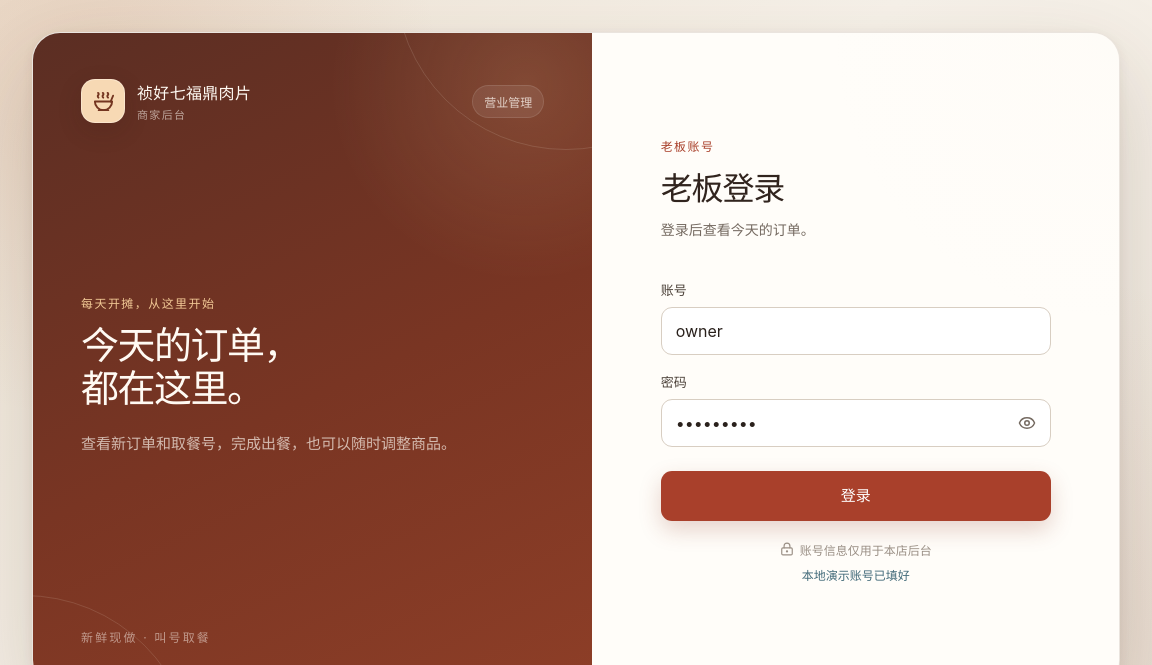
Scenario: merchant V2 app › completes a waiting order through an explicit confirmation
Click the button "登录".
click(856, 496)  # box [661, 470, 1051, 520]
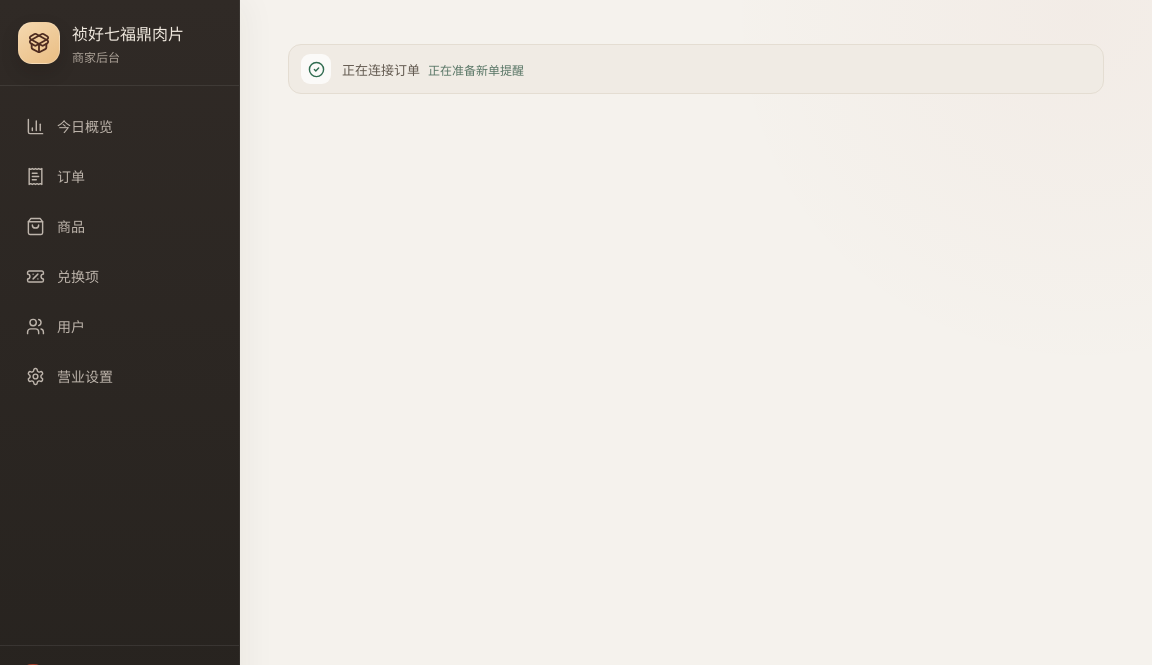
Click the link "订单".
click(56, 176)  # box [26, 166, 85, 186]
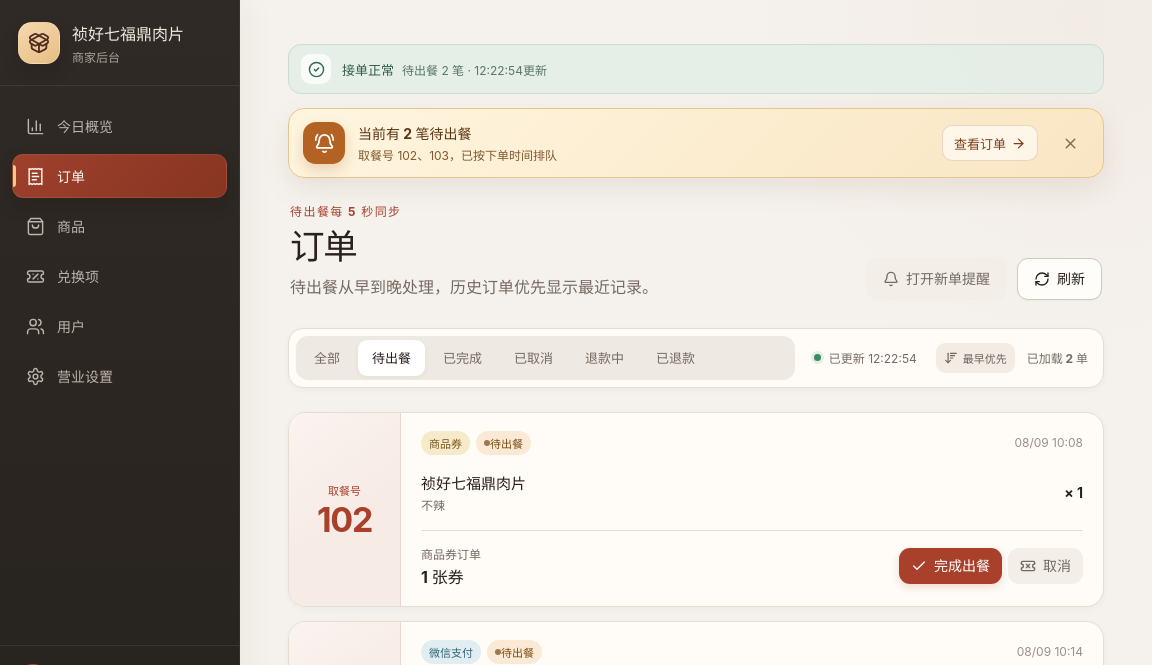
Click the button "完成出餐".
click(950, 566)  # box [899, 548, 1002, 584]
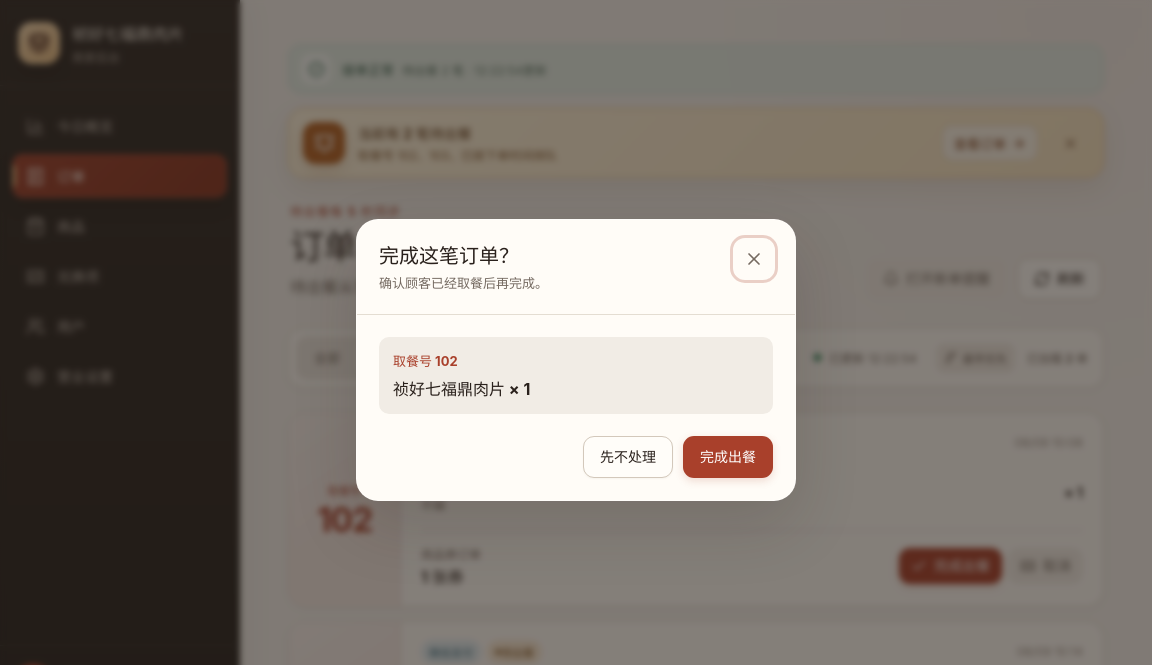
Check: the dialog "完成这笔订单？" is shown, box [356, 219, 796, 501]
Click the button "完成出餐".
click(728, 457)  # box [683, 436, 773, 478]
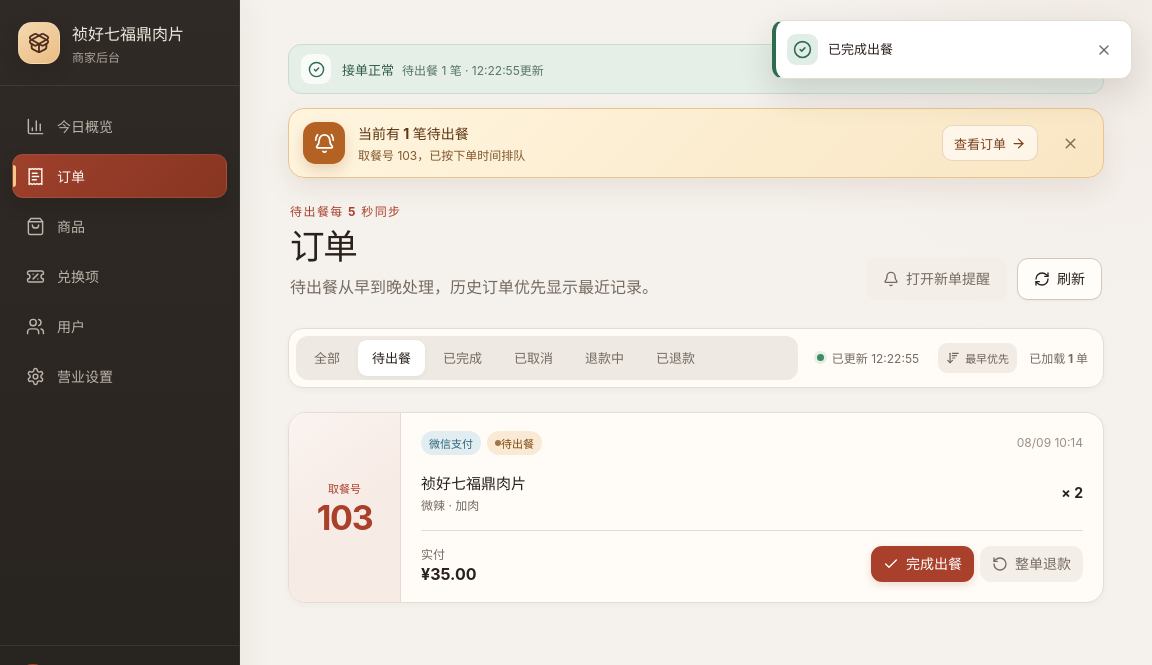
Check: the dialog is gone
Check: the text "已完成出餐" is shown, box [828, 41, 893, 57]
Check: the text "当前有 1 笔待出餐" is shown, box [358, 125, 469, 142]
